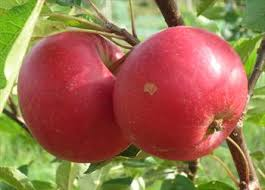apple: (113, 26, 248, 161)
obscured(1)_apple: (17, 31, 137, 163)
